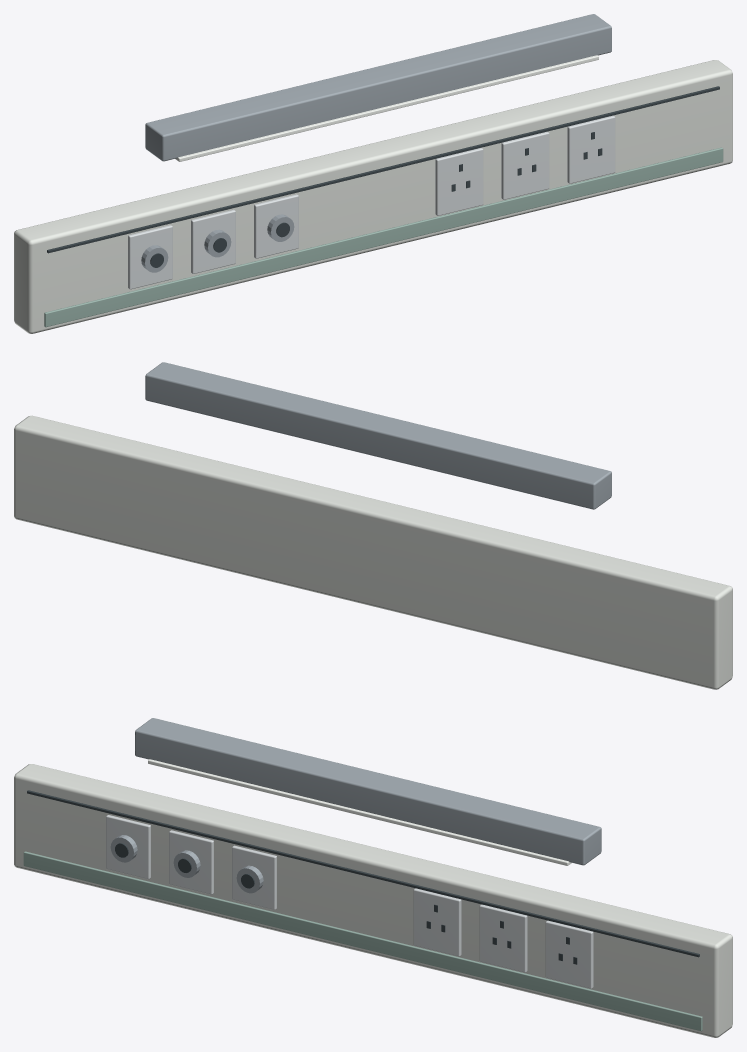
Rendered from bay_headwall.fbx.
3 views of the same model, one above another, from view 1: azimuth 30°, elevation 25°; view 2: azimuth 150°, elevation 25°; view 3: azimuth 330°, elevation 25° (orthographic).
Visible parts, largest first — view 1: EQ_bay_headwall_M_Ivory, EQ_bay_headwall_M_SteelBrushed, EQ_bay_headwall_M_PlasticWhite, EQ_bay_headwall_M_Sage, EQ_bay_headwall_M_PlasticGrey, EQ_bay_headwall_M_Diffuser; view 2: EQ_bay_headwall_M_Ivory, EQ_bay_headwall_M_SteelBrushed; view 3: EQ_bay_headwall_M_Ivory, EQ_bay_headwall_M_SteelBrushed, EQ_bay_headwall_M_PlasticWhite, EQ_bay_headwall_M_Sage, EQ_bay_headwall_M_PlasticGrey, EQ_bay_headwall_M_Diffuser.
Part boxes in pixels (box(x1,y1,x2,y2)): EQ_bay_headwall_M_Ivory: box(14, 60, 732, 333); EQ_bay_headwall_M_SteelBrushed: box(141, 14, 611, 272); EQ_bay_headwall_M_PlasticWhite: box(128, 115, 615, 289); EQ_bay_headwall_M_Sage: box(44, 147, 723, 327); EQ_bay_headwall_M_PlasticGrey: box(47, 86, 719, 267); EQ_bay_headwall_M_Diffuser: box(175, 55, 598, 161); EQ_bay_headwall_M_Ivory: box(14, 415, 732, 689); EQ_bay_headwall_M_SteelBrushed: box(145, 362, 611, 509); EQ_bay_headwall_M_Ivory: box(14, 764, 732, 1037); EQ_bay_headwall_M_SteelBrushed: box(110, 718, 601, 893); EQ_bay_headwall_M_PlasticWhite: box(106, 815, 593, 988); EQ_bay_headwall_M_Sage: box(23, 851, 702, 1031); EQ_bay_headwall_M_PlasticGrey: box(27, 790, 699, 964); EQ_bay_headwall_M_Diffuser: box(148, 759, 571, 865).
Bounding box in the file's own units: 2.35 × 0.5525 × 0.154.
